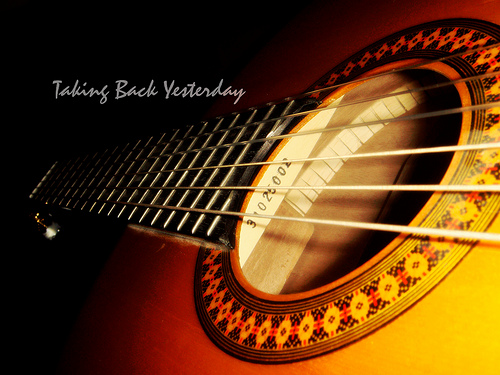guitar: (25, 1, 500, 375)
